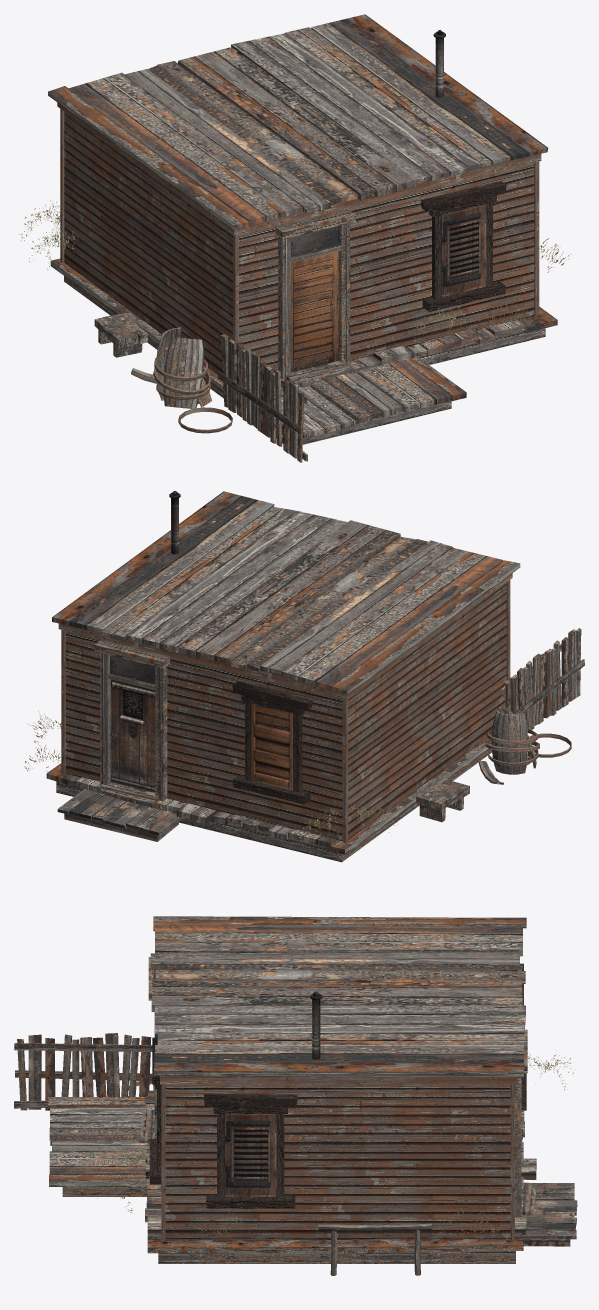
File: House_01_M2.gltf
The picture shows the model from 3 angles, top to bottom: view 1: azimuth 30°, elevation 25°; view 2: azimuth 150°, elevation 25°; view 3: azimuth 270°, elevation 25°; orthographic projection. The views are drawn at different scales.
Parts seen in each view (by area): view 1: Roof_W6D6_v1, Wall_W_W3H3_T1, Wall_W3H3_T1 (1), Wall_W3H3_T1 (2), Wall_D_W3H3_T1, Floor_3x3, Doorway_D_v1, Floor_6x6, Fence_W3_v3, Door, Window_W_v4, S (+6 smaller); view 2: Roof_W6D6_v1, Wall_W_W3H3_T1 (2), Wall_W3H3_T1 (1), Wall_W3H3_T1 (2), Wall_D_W3H3_T1 (1), Floor_6x6, Doorway_D_v1, Fence_W3_v3, Door, Window_W_v4, Floor_2x1, S (+5 smaller); view 3: Roof_W6D6_v1, Wall_W3H3_T1, Wall_W_W3H3_T1 (1), Floor_6x6, Floor_3x3, Fence_W3_v3, Window_W_v4 (×2), S, Floor_2x1, Doorway_D_v1 (×2), Fence_W2_v1, WallEdge_H3_T1 (3) (+2 smaller).
Part boxes in pixels (bbox=[...]): Roof_W6D6_v1: bbox=[48, 14, 548, 235]; Wall_W_W3H3_T1: bbox=[386, 163, 534, 349]; Wall_W3H3_T1 (1): bbox=[64, 112, 149, 324]; Wall_W3H3_T1 (2): bbox=[149, 174, 232, 374]; Wall_D_W3H3_T1: bbox=[239, 199, 385, 371]; Floor_3x3: bbox=[281, 356, 466, 444]; Doorway_D_v1: bbox=[275, 209, 355, 383]; Floor_6x6: bbox=[50, 258, 557, 401]; Fence_W3_v3: bbox=[217, 334, 307, 462]; Door: bbox=[291, 251, 338, 372]; Window_W_v4: bbox=[420, 181, 506, 311]; S: bbox=[441, 204, 486, 297]; Roof_W6D6_v1: bbox=[52, 491, 520, 699]; Wall_W_W3H3_T1 (2): bbox=[205, 665, 342, 840]; Wall_W3H3_T1 (1): bbox=[348, 641, 426, 839]; Wall_W3H3_T1 (2): bbox=[426, 582, 506, 781]; Wall_D_W3H3_T1 (1): bbox=[65, 631, 204, 807]; Floor_6x6: bbox=[46, 734, 492, 862]; Doorway_D_v1: bbox=[94, 640, 169, 805]; Fence_W3_v3: bbox=[501, 628, 584, 730]; Door: bbox=[111, 679, 155, 792]; Window_W_v4: bbox=[232, 681, 312, 804]; Floor_2x1: bbox=[57, 789, 182, 841]; S: bbox=[251, 703, 292, 790]; Roof_W6D6_v1: bbox=[150, 916, 527, 1084]; Wall_W3H3_T1: bbox=[338, 1084, 510, 1238]; Wall_W_W3H3_T1 (1): bbox=[165, 1084, 338, 1238]; Floor_6x6: bbox=[145, 1090, 536, 1263]; Floor_3x3: bbox=[48, 1097, 149, 1196]; Fence_W3_v3: bbox=[14, 1033, 154, 1110]; Window_W_v4 (×2): bbox=[149, 1037, 297, 1208]; S: bbox=[225, 1114, 276, 1196]; Floor_2x1: bbox=[522, 1183, 577, 1246]; Doorway_D_v1 (×2): bbox=[139, 957, 536, 1217]; Fence_W2_v1: bbox=[318, 1223, 431, 1275]; WallEdge_H3_T1 (3): bbox=[161, 1084, 165, 1239].
Size of the model in its own units: 8.58 by 4.94 by 9.8.
2 materials, 2 textured.
